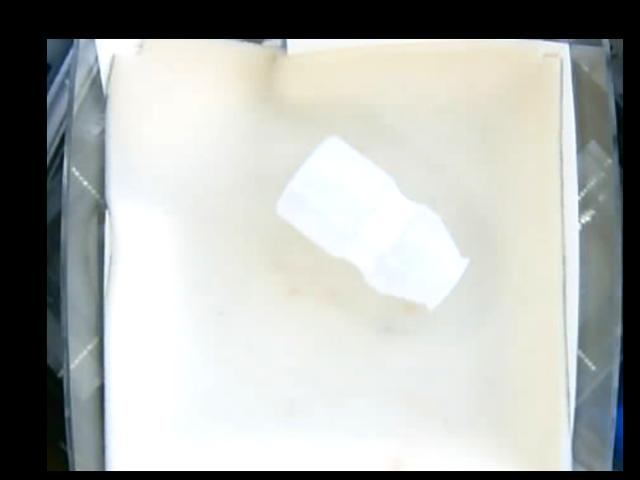Bottle: (274, 135, 470, 310)
